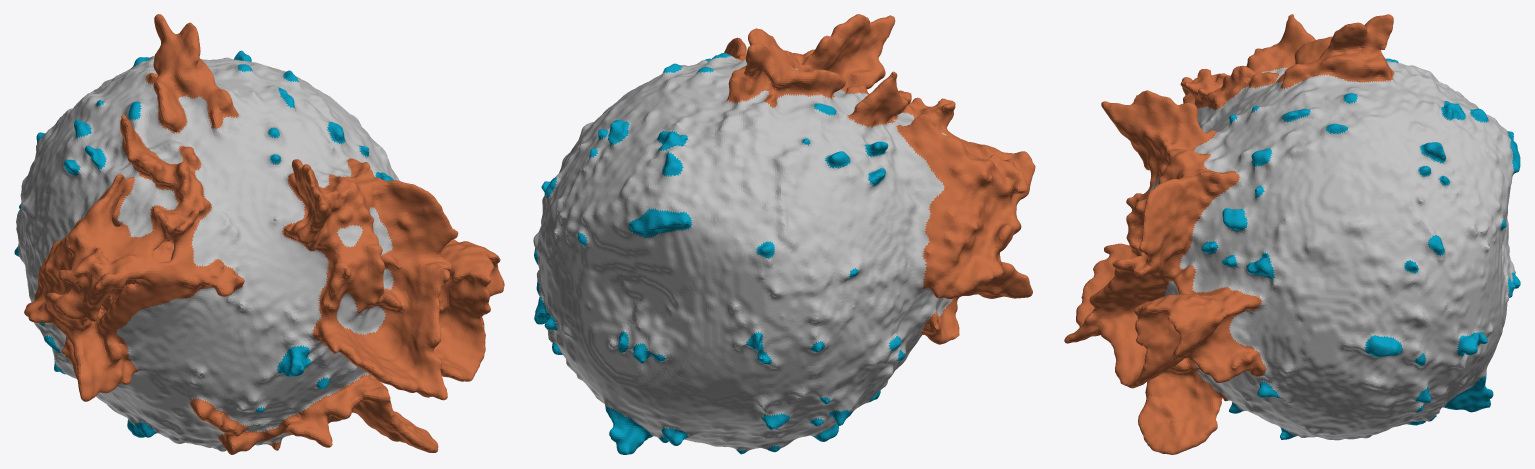
3 renders of one model, left to right at view 1: azimuth 30°, elevation 25°; view 2: azimuth 150°, elevation 25°; view 3: azimuth 270°, elevation 25°, orthographic. The views are drawn at different scales.
Size of the model in its own units: 177 by 167 by 176.
